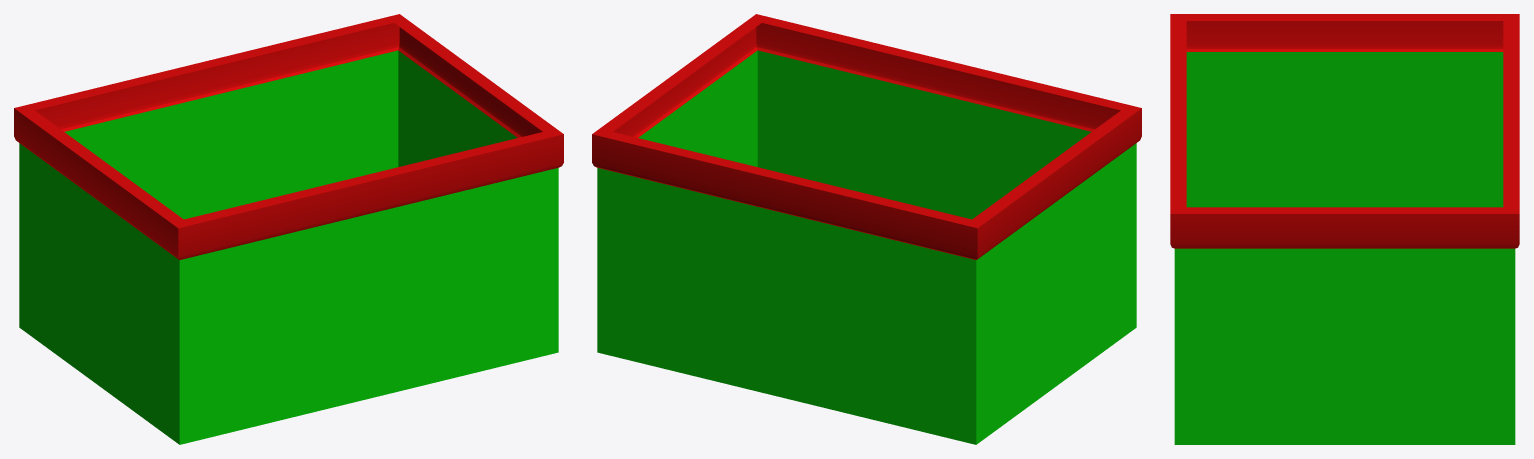
The model's file is Building01_Base_Nice.fbx.
The picture shows the model from 3 angles, left to right: view 1: azimuth 30°, elevation 25°; view 2: azimuth 150°, elevation 25°; view 3: azimuth 270°, elevation 25°; orthographic projection. The views are drawn at different scales.
Parts seen in each view (by area): view 1: Building1_Base; view 2: Building1_Base; view 3: Building1_Base.
Part boxes in pixels (x1,y1,x2,y2): Building1_Base: (14, 14, 563, 444); Building1_Base: (592, 14, 1141, 444); Building1_Base: (1170, 14, 1519, 444).
Bounding box in the file's own units: 553 × 300 × 408.
